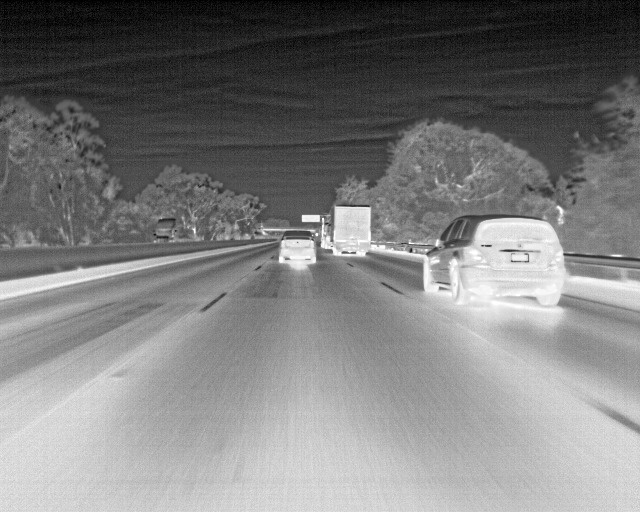vehicle: (421, 217, 565, 304), (330, 201, 374, 260), (279, 228, 319, 269)
